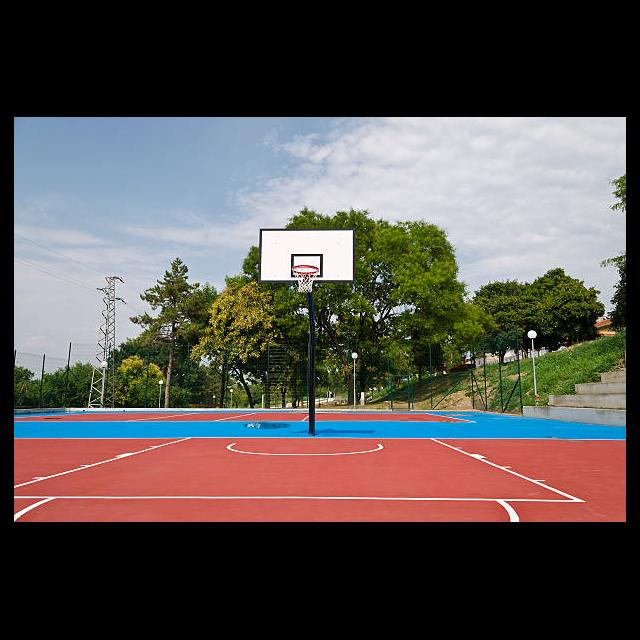hoop: (294, 264, 316, 294)
